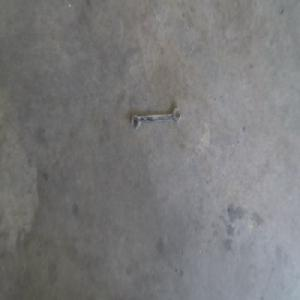Wrench: (129, 107, 182, 131)
